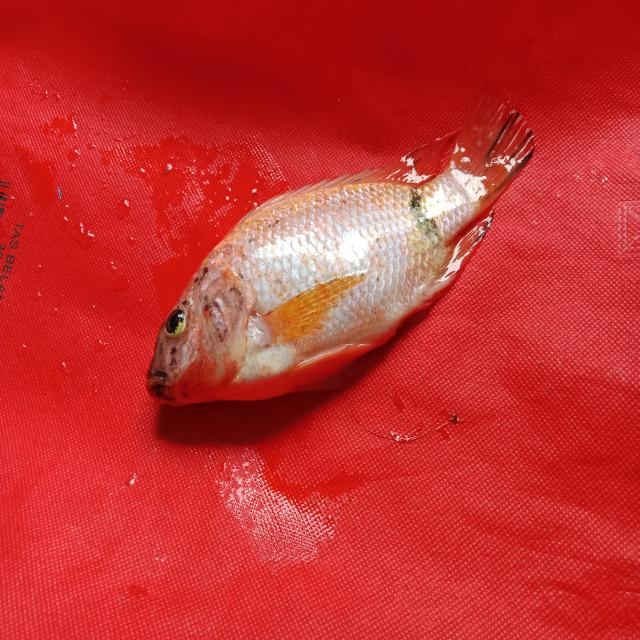ikan: (134, 101, 549, 424)
